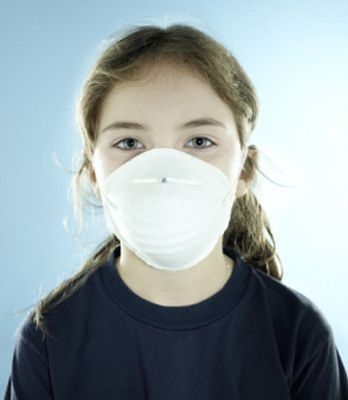face_mask: (95, 73, 234, 270)
